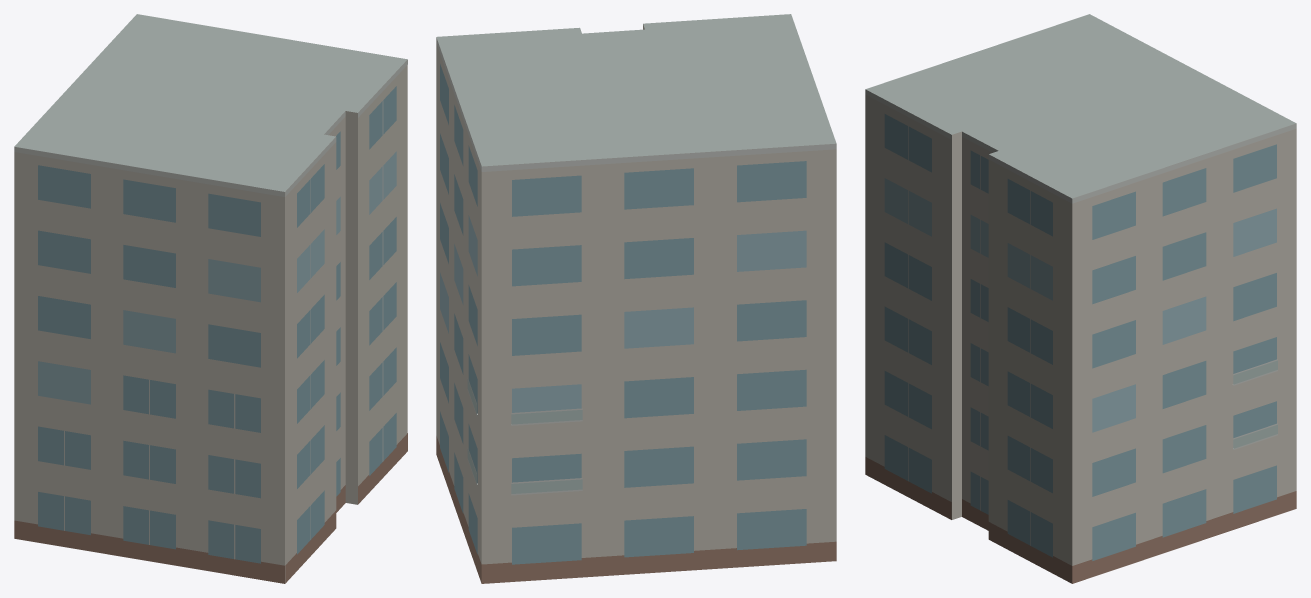
The model's file is survey-upis-32600322.glb.
3 views of the same model, side by side, from view 1: azimuth 30°, elevation 25°; view 2: azimuth 150°, elevation 25°; view 3: azimuth 270°, elevation 25° (orthographic). The views are drawn at different scales.
Parts seen in each view (by area): view 1: survey-upis-32600322.tmp; view 2: survey-upis-32600322.tmp; view 3: survey-upis-32600322.tmp.
Part boxes in pixels (x1,y1,x2,y2): survey-upis-32600322.tmp: (14, 14, 407, 583); survey-upis-32600322.tmp: (436, 14, 836, 583); survey-upis-32600322.tmp: (865, 14, 1296, 583).
Size of the model in its own units: 18.71 by 18.2 by 18.47.
